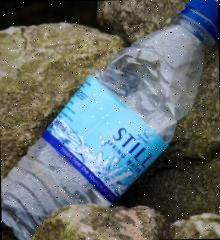plastic: (1, 0, 219, 240)
